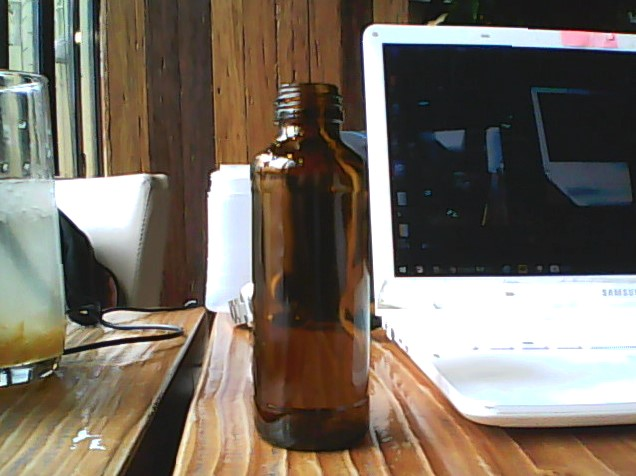Glass: (247, 81, 376, 454)
